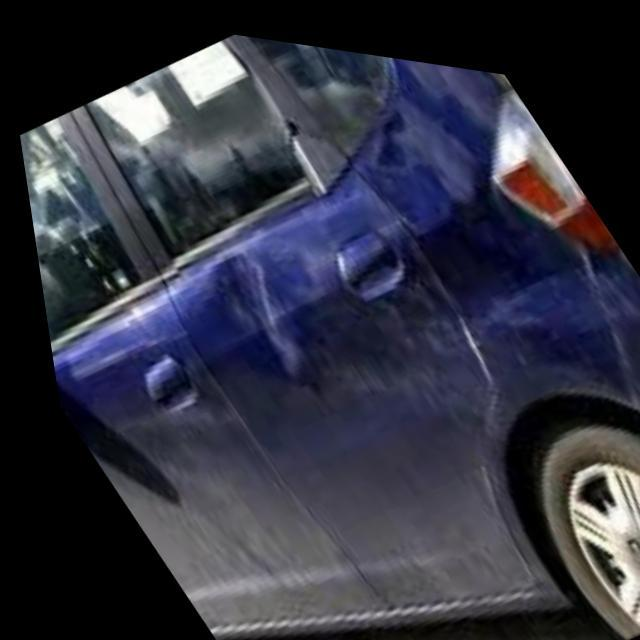dent: (340, 117, 454, 240), (193, 242, 289, 384)
